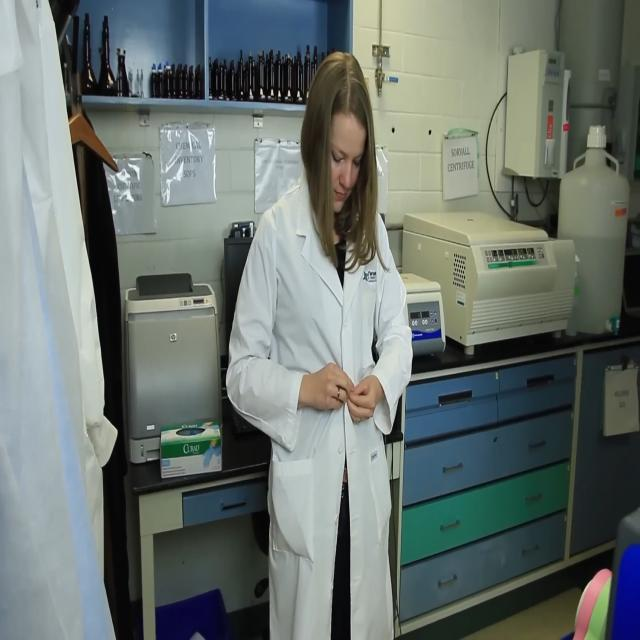labcoat: (223, 162, 414, 640), (0, 0, 124, 640)
